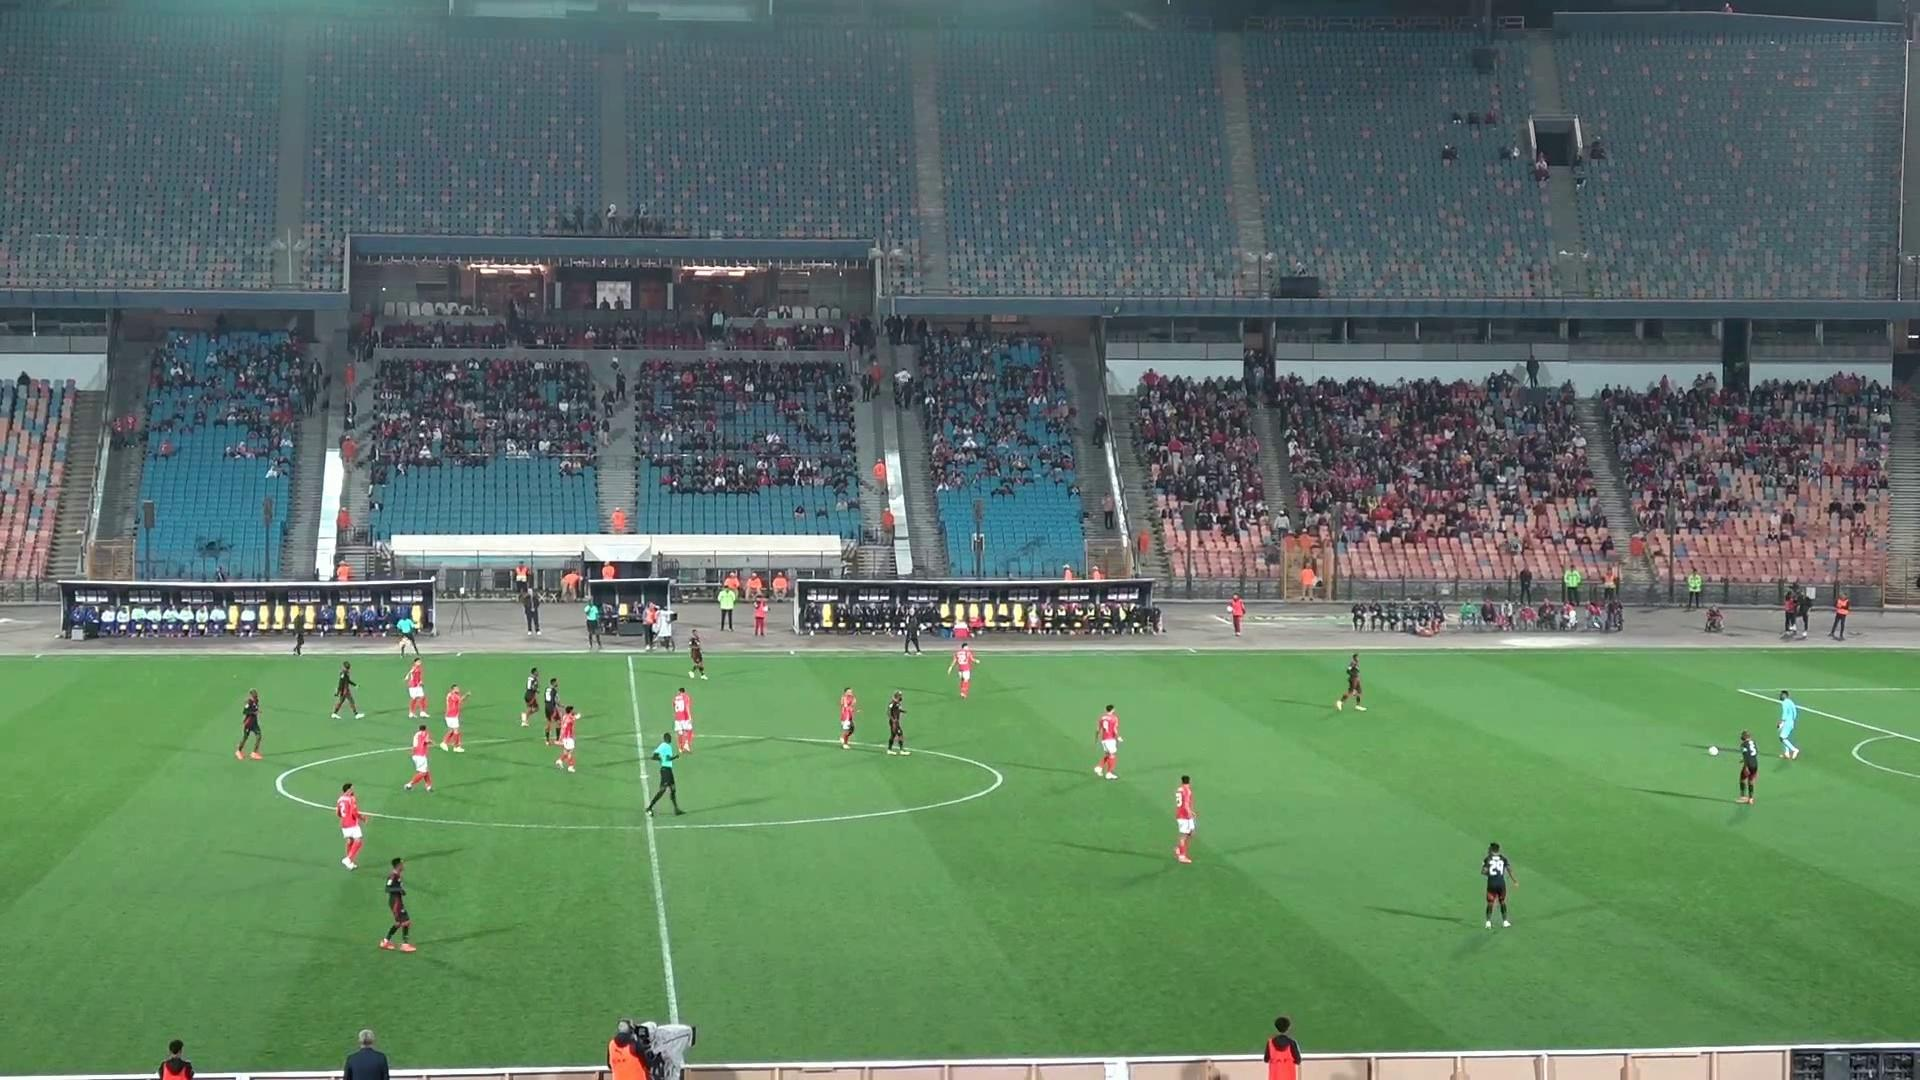Ball: (1706, 745, 1720, 756)
GK2: (1778, 690, 1801, 760)
Refree: (645, 735, 682, 814), (394, 608, 419, 655), (583, 597, 603, 650)
Team1: (335, 782, 367, 869), (1174, 775, 1196, 862), (1095, 705, 1121, 779), (404, 724, 431, 790), (551, 705, 579, 771), (442, 684, 465, 752), (949, 640, 976, 698), (673, 688, 694, 752), (407, 658, 429, 719), (839, 687, 856, 748)
Team2: (378, 858, 414, 951), (1481, 843, 1514, 927), (330, 661, 364, 717), (236, 688, 262, 757), (539, 676, 566, 745), (1735, 731, 1758, 804), (1335, 651, 1361, 709), (520, 667, 541, 727), (887, 691, 907, 753), (688, 630, 705, 679)
